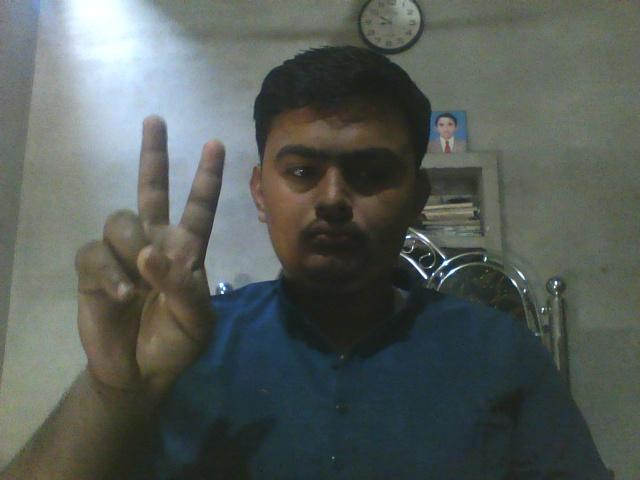Hello: (69, 108, 235, 394)
